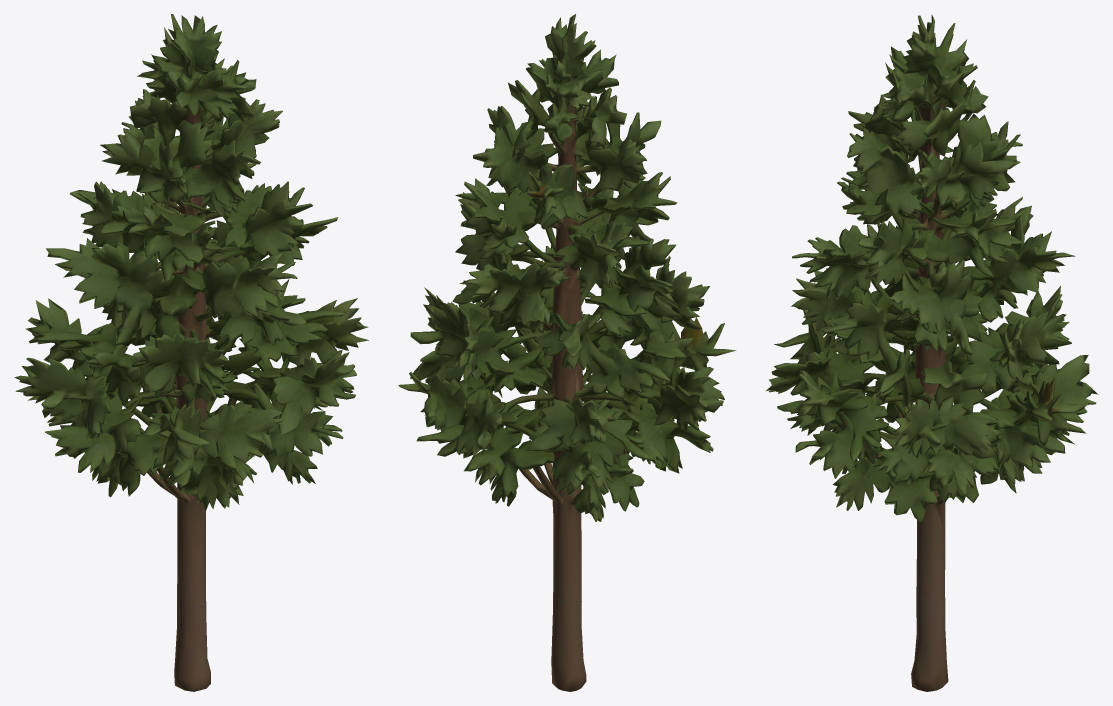
The model's file is tree-conifer.glb.
The picture shows the model from 3 angles, left to right: view 1: azimuth 30°, elevation 25°; view 2: azimuth 150°, elevation 25°; view 3: azimuth 270°, elevation 25°; orthographic projection.
Visible parts, largest first — view 1: tripo_node_fcffe792-52d8-4895-b2a0-a66d7c0ff14c; view 2: tripo_node_fcffe792-52d8-4895-b2a0-a66d7c0ff14c; view 3: tripo_node_fcffe792-52d8-4895-b2a0-a66d7c0ff14c.
Part boxes in pixels (x1,y1,x2,y2): tripo_node_fcffe792-52d8-4895-b2a0-a66d7c0ff14c: [14, 14, 368, 691]; tripo_node_fcffe792-52d8-4895-b2a0-a66d7c0ff14c: [398, 14, 736, 691]; tripo_node_fcffe792-52d8-4895-b2a0-a66d7c0ff14c: [765, 14, 1098, 691].
Bounding box in the file's own units: 1.24 × 2.5 × 1.13.
1 material, 1 textured.
